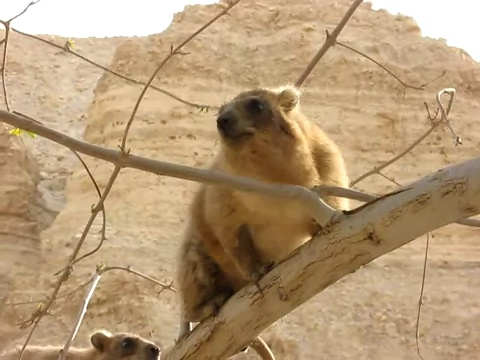Rock Hyrex: (176, 85, 348, 307), (87, 332, 163, 360)
